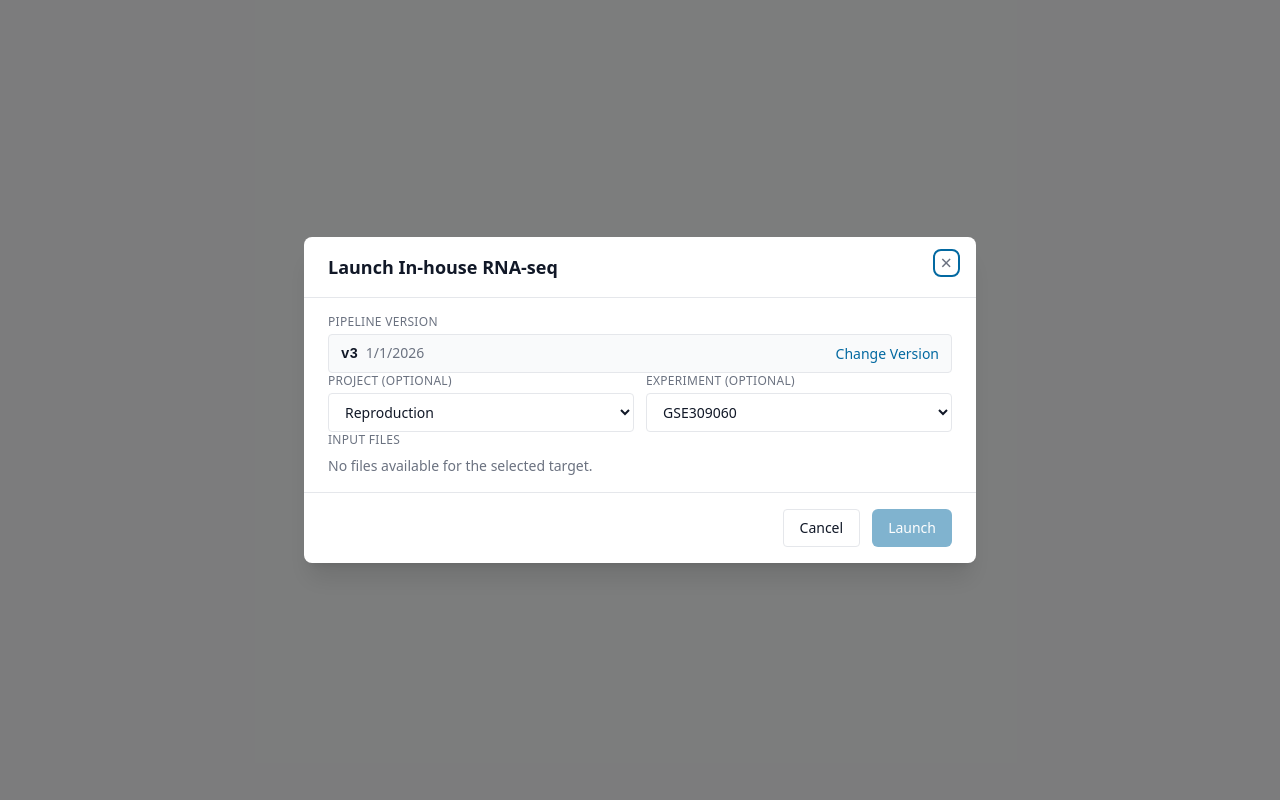
Test: a manual project change after preselection clears the experiment as before
The width and height of the screenshot is (1280, 800).
Expected: the dropdown labelled "Experiment (optional)" shows "GSE309060", [646,393,952,432]
Select "All projects" in the dropdown labelled "Project (optional)". click: [481, 412]
box: [328,393,634,432]
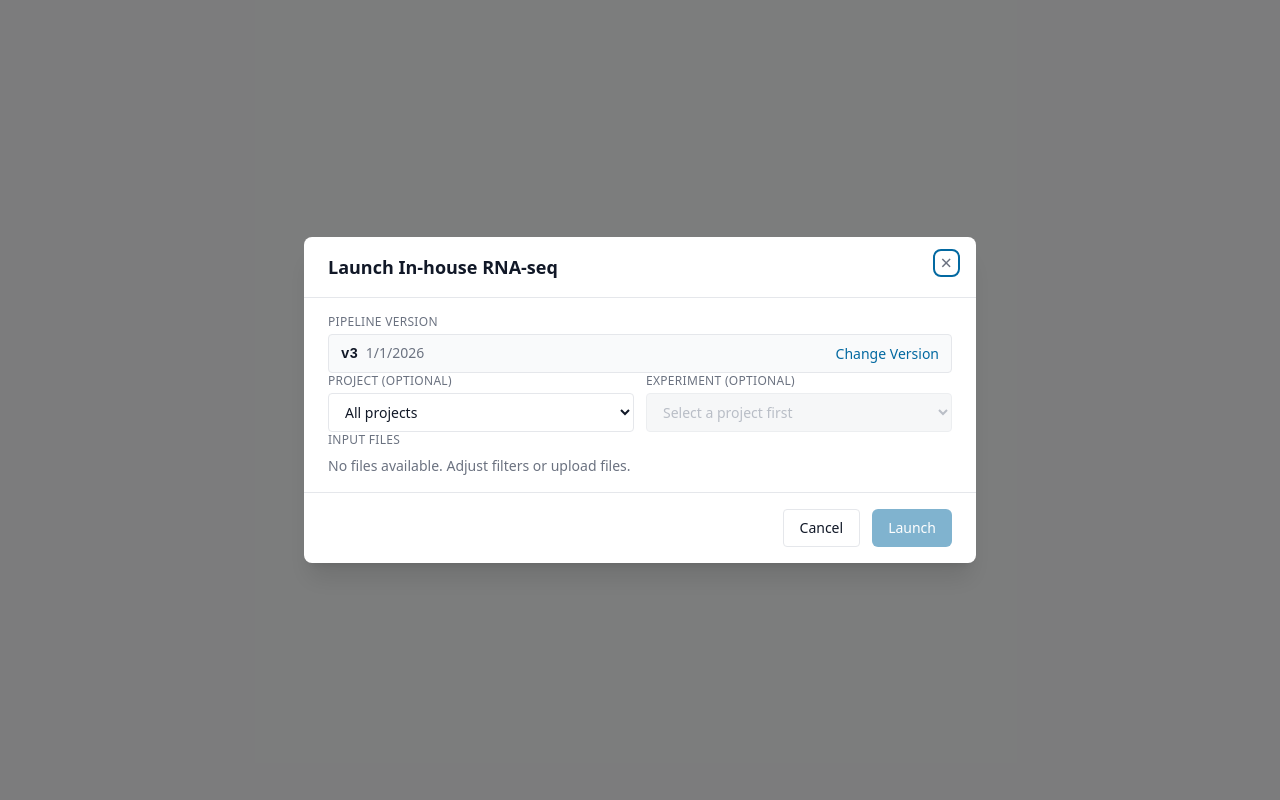
Expected: the dropdown labelled "Experiment (optional)" shows "Select a project first", [646,393,952,432]
